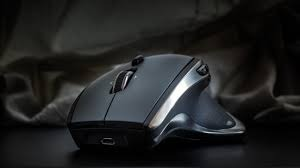mouse: (64, 54, 257, 147)
